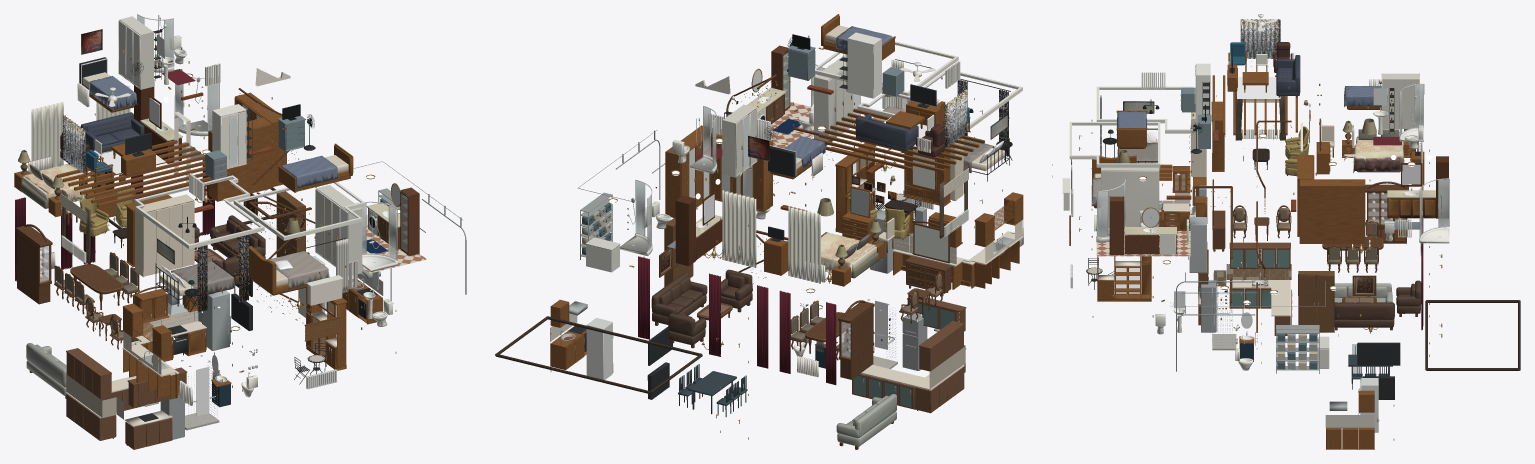
Rendered from INTERIOR-2-opt-v10-DRACO.glb.
3 views of the same model, side by side, from view 1: azimuth 30°, elevation 25°; view 2: azimuth 150°, elevation 25°; view 3: azimuth 270°, elevation 25° (orthographic). The views are drawn at different scales.
Parts seen in each view (by area): view 1: wood_honey (2), white_trim (2), antique_wood (2), R31 | R33 garden kitchen walnut, linen, R31 | R33 ivory wardrobe lacquer, Ivory kitchen countertop, Completion | Dark satin metal, chrome (2), Room pass | Quilted bedspread, Room pass | Quilted bedspread -3, curtain_sheer (+33 smaller); view 2: wood_honey (2), white_trim (2), burgundy_velvet, curtain_sheer, antique_wood (2), R31 | R33 ivory wardrobe lacquer, R31 | R33 garden kitchen walnut, leather_brown, Completion | Dark satin metal, Ivory kitchen countertop, R31 | R33 antique nook walnut, Bathroom dark walnut (+38 smaller); view 3: wood_honey (2), R31 | R33 ivory wardrobe lacquer, white_trim (2), antique_wood (2), leather_brown, R31 | R35 garage oak storage, Completion | Dark satin metal, Ivory kitchen countertop, chrome (2), R31 | Bathroom walnut, R31 | R33 garden kitchen walnut, R31 | R33 warm porcelain (+36 smaller).
Part boxes in pixels (left/top/right/bottom): wood_honey (2): left=14, top=84, right=382, bottom=399; white_trim (2): left=61, top=58, right=365, bottom=289; antique_wood (2): left=15, top=88, right=315, bottom=398; R31 | R33 garden kitchen walnut: left=66, top=348, right=187, bottom=449; linen: left=22, top=72, right=348, bottom=296; R31 | R33 ivory wardrobe lacquer: left=118, top=16, right=362, bottom=275; Ivory kitchen countertop: left=66, top=305, right=336, bottom=426; Completion | Dark satin metal: left=79, top=28, right=377, bottom=421; chrome (2): left=141, top=77, right=380, bottom=424; Room pass | Quilted bedspread: left=171, top=251, right=329, bottom=298; Room pass | Quilted bedspread -3: left=88, top=76, right=337, bottom=189; curtain_sheer: left=31, top=86, right=130, bottom=167; wood_honey (2): left=550, top=14, right=1023, bottom=369; white_trim (2): left=711, top=32, right=1022, bottom=236; burgundy_velvet: left=638, top=256, right=836, bottom=384; curtain_sheer: left=722, top=190, right=820, bottom=283; antique_wood (2): left=655, top=74, right=893, bottom=449; R31 | R33 ivory wardrobe lacquer: left=722, top=54, right=860, bottom=177; R31 | R33 garden kitchen walnut: left=852, top=297, right=966, bottom=413; leather_brown: left=651, top=269, right=752, bottom=345; Completion | Dark satin metal: left=568, top=39, right=936, bottom=399; Ivory kitchen countertop: left=852, top=178, right=1023, bottom=390; R31 | R33 antique nook walnut: left=899, top=221, right=952, bottom=323; Bathroom dark walnut: left=675, top=191, right=722, bottom=265; wood_honey (2): left=1092, top=52, right=1434, bottom=449; R31 | R33 ivory wardrobe lacquer: left=1101, top=73, right=1419, bottom=227; white_trim (2): left=1062, top=14, right=1354, bottom=216; antique_wood (2): left=1192, top=120, right=1417, bottom=332; leather_brown: left=1334, top=280, right=1421, bottom=327; R31 | R35 garage oak storage: left=1298, top=271, right=1334, bottom=332; Completion | Dark satin metal: left=1191, top=48, right=1418, bottom=399; Ivory kitchen countertop: left=1098, top=193, right=1290, bottom=316; chrome (2): left=1159, top=86, right=1442, bottom=410; R31 | Bathroom walnut: left=1109, top=196, right=1176, bottom=254; R31 | R33 garden kitchen walnut: left=1198, top=242, right=1291, bottom=335; R31 | R33 warm porcelain: left=1155, top=110, right=1449, bottom=334.
Bounding box in the file's own units: 13.27 × 12.15 × 17.17.
129 materials, 21 textured.
